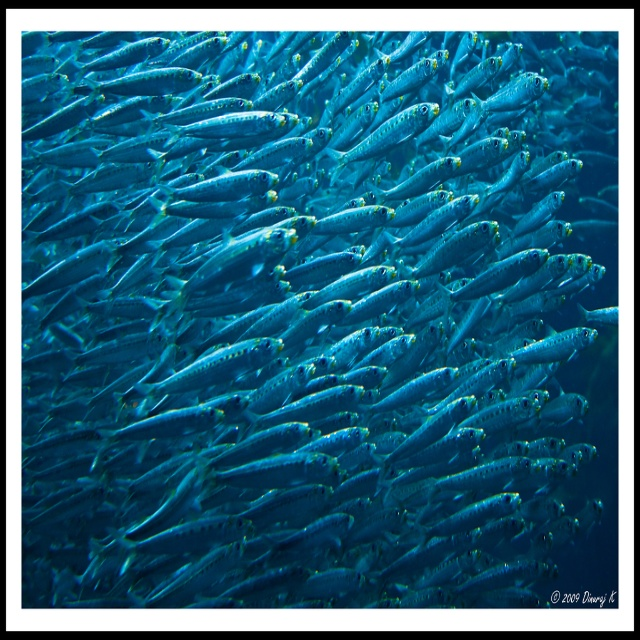Fish: (21, 31, 619, 609)
